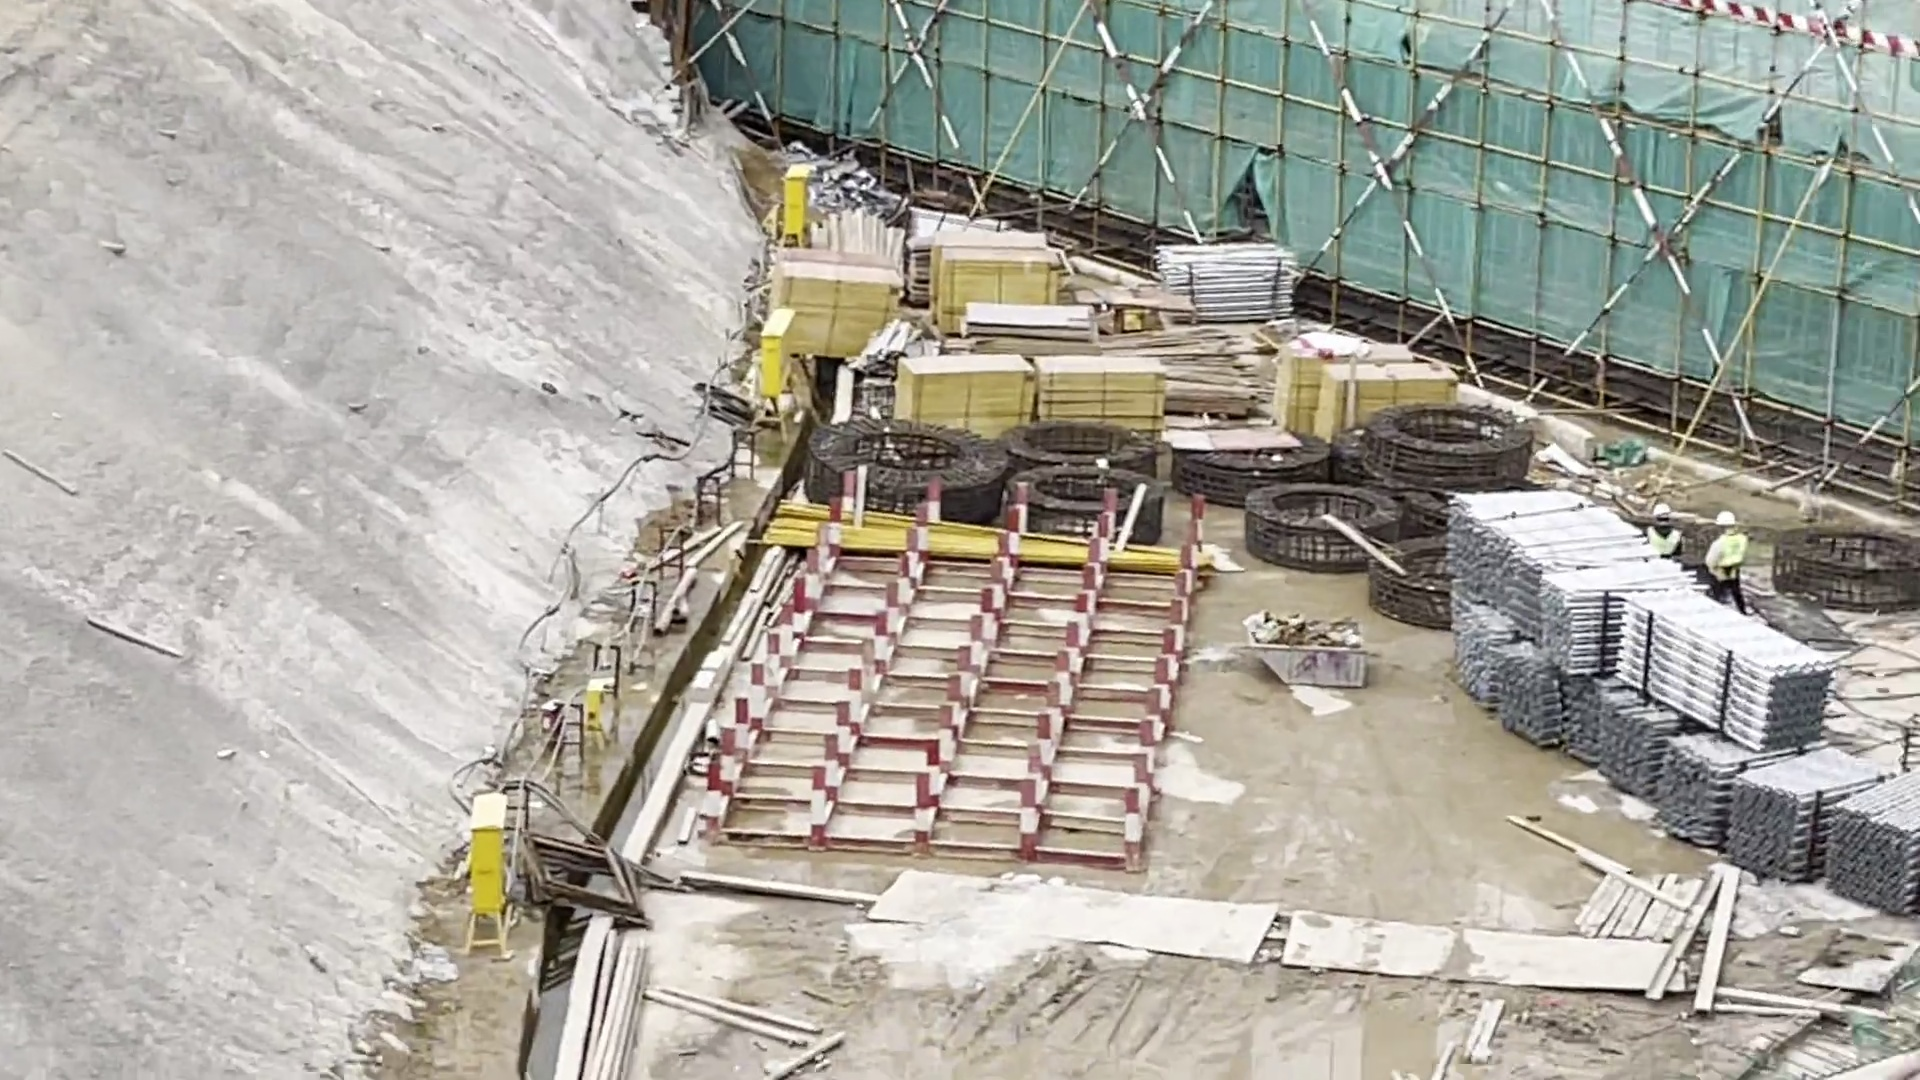ebox: (466, 792, 512, 962), (761, 307, 795, 440), (782, 163, 809, 247)
helmet: (1715, 512, 1733, 525), (1651, 502, 1668, 515)
hopper: (1246, 610, 1370, 702)
person: (1706, 511, 1752, 609), (1645, 501, 1682, 556)
scaffold: (1441, 487, 1920, 922), (1154, 237, 1300, 320)
vest: (1715, 533, 1745, 580), (1649, 524, 1680, 556)
